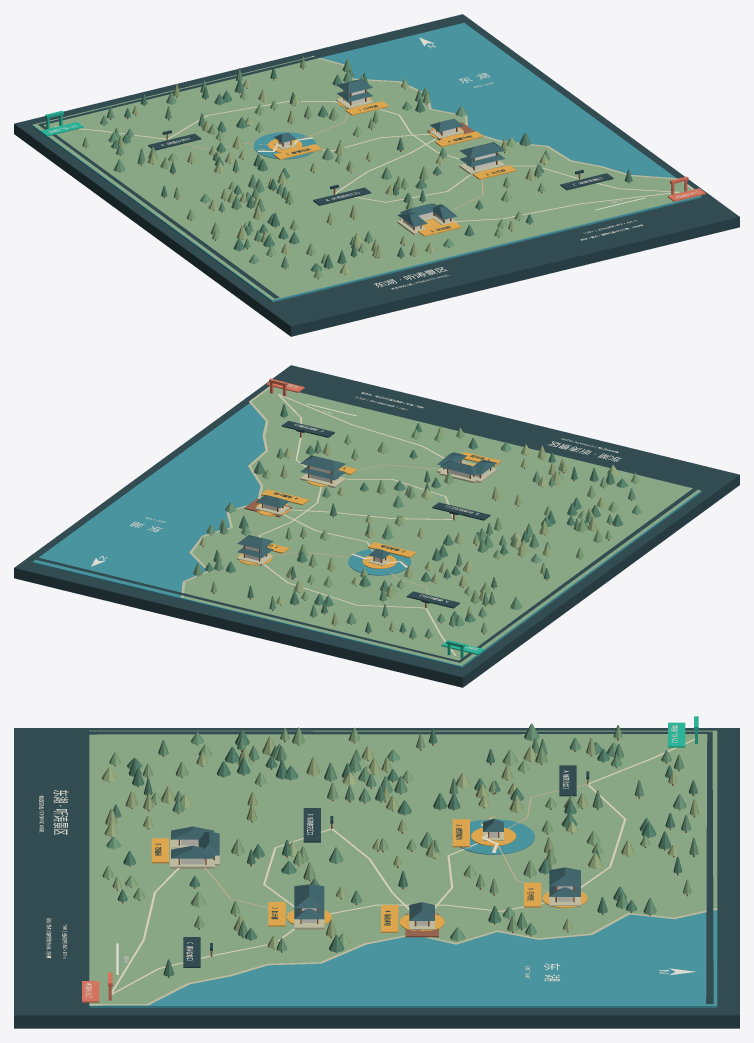
The model's file is tingtao.glb.
3 renders of one model, top to bottom at view 1: azimuth 30°, elevation 25°; view 2: azimuth 150°, elevation 25°; view 3: azimuth 270°, elevation 25°, orthographic. The views are drawn at different scales.
Parts seen in each view (by area): view 1: 陆地区域_示意岸线, 沙盘底座, 湖面矩形, 东湖路_北界与西界, 碧潭, 自然湖岸; view 2: 陆地区域_示意岸线, 沙盘底座, 湖面矩形, 东湖路_北界与西界, 碧潭, 自然湖岸; view 3: 陆地区域_示意岸线, 沙盘底座, 湖面矩形, 东湖路_北界与西界, 自然湖岸, 碧潭, 长天楼_坡屋顶.001, marker_B, 行吟阁_坡屋顶.001, marker_A, marker_C, marker_p2.
Part boxes in pixels (<box>): 陆地区域_示意岸线: <box>33,57,700,299</box>; 沙盘底座: <box>14,14,739,336</box>; 湖面矩形: <box>32,23,701,302</box>; 东湖路_北界与西界: <box>38,20,465,298</box>; 碧潭: <box>253,132,316,159</box>; 自然湖岸: <box>311,56,694,189</box>; 陆地区域_示意岸线: <box>182,387,700,665</box>; 沙盘底座: <box>14,365,739,687</box>; 湖面矩形: <box>32,403,701,667</box>; 东湖路_北界与西界: <box>34,488,698,662</box>; 碧潭: <box>348,549,411,575</box>; 自然湖岸: <box>181,386,269,597</box>; 陆地区域_示意岸线: <box>89,730,717,1003</box>; 沙盘底座: <box>14,728,739,1028</box>; 湖面矩形: <box>89,910,717,1007</box>; 东湖路_北界与西界: <box>89,731,713,1003</box>; 自然湖岸: <box>89,908,717,1005</box>; 碧潭: <box>452,819,534,854</box>; 长天楼_坡屋顶.001: <box>294,884,324,908</box>; marker_B: <box>303,808,320,842</box>; 行吟阁_坡屋顶.001: <box>549,867,580,886</box>; marker_A: <box>559,765,576,796</box>; marker_C: <box>183,937,200,967</box>; marker_p2: <box>452,819,469,847</box>.
Bounding box in the file's own units: 1.81 × 0.134 × 1.93.
